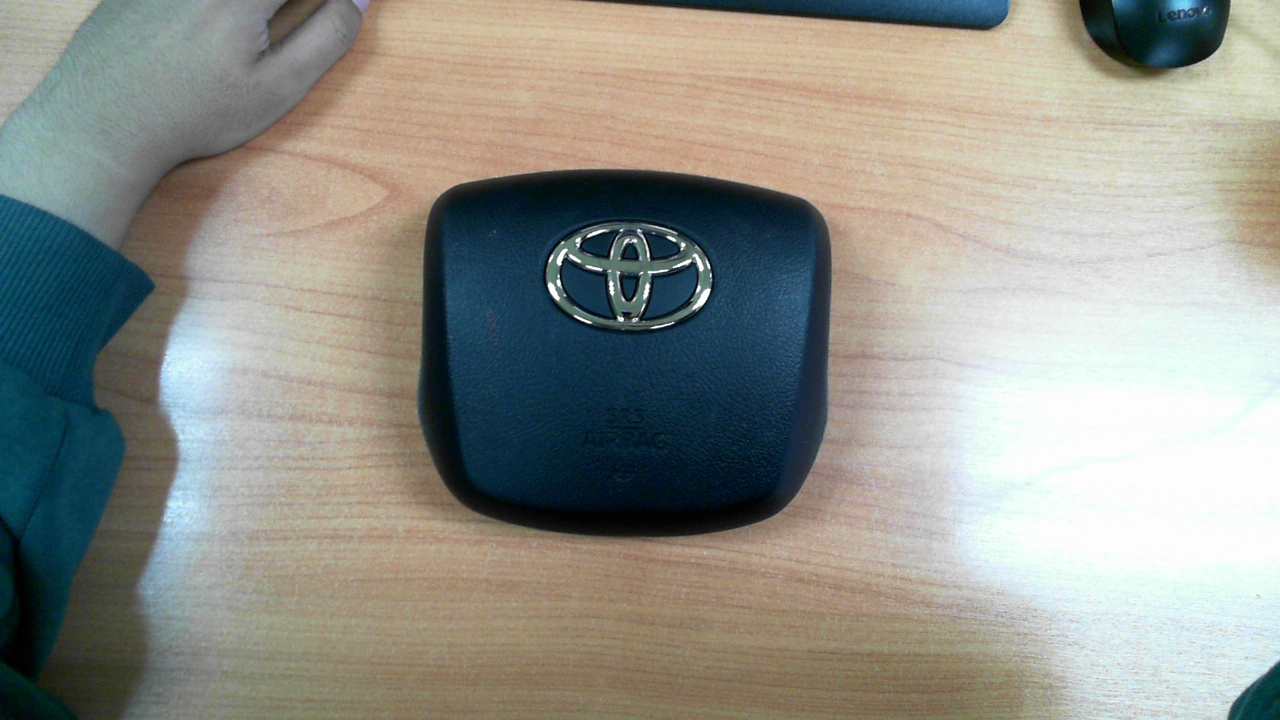Airbag: (417, 168, 832, 538)
Toyota: (545, 221, 713, 331)
